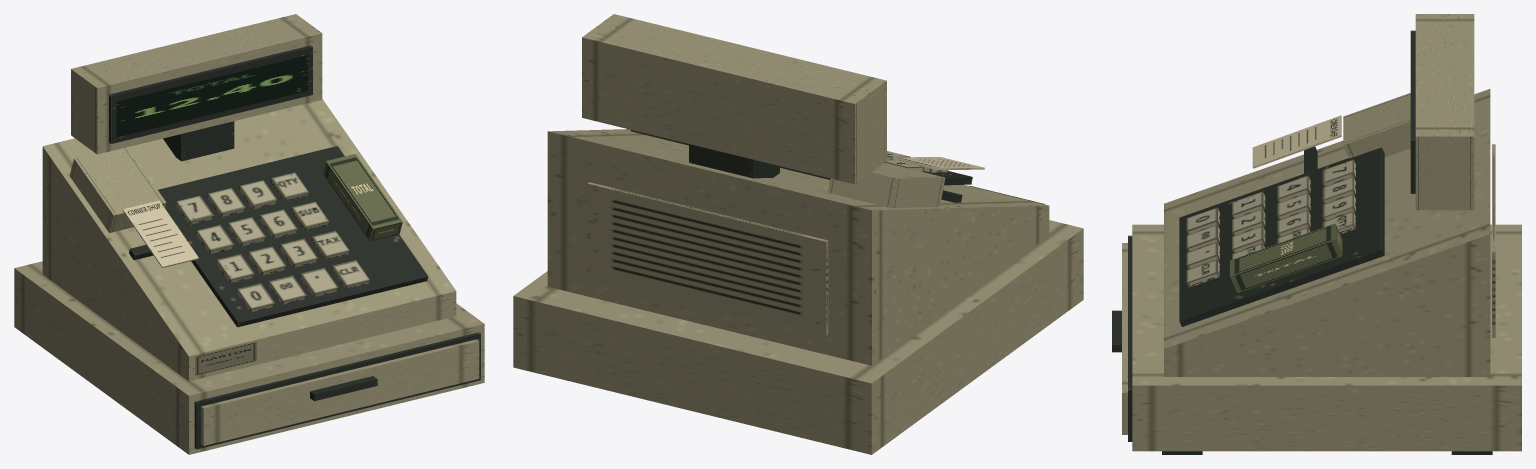
The model's file is CashRegister.fbx.
3 renders of one model, left to right at view 1: azimuth 30°, elevation 25°; view 2: azimuth 150°, elevation 25°; view 3: azimuth 270°, elevation 25°, orthographic. The views are drawn at different scales.
Parts seen in each view (by area): view 1: CashRegister; view 2: CashRegister; view 3: CashRegister.
Boxes of the visible parts, box(x1,y1,x2,y2) form: CashRegister: box(14, 14, 484, 454); CashRegister: box(513, 14, 1083, 454); CashRegister: box(1112, 14, 1521, 454).
Size of the model in its own units: 42 by 37.5 by 45.25.
